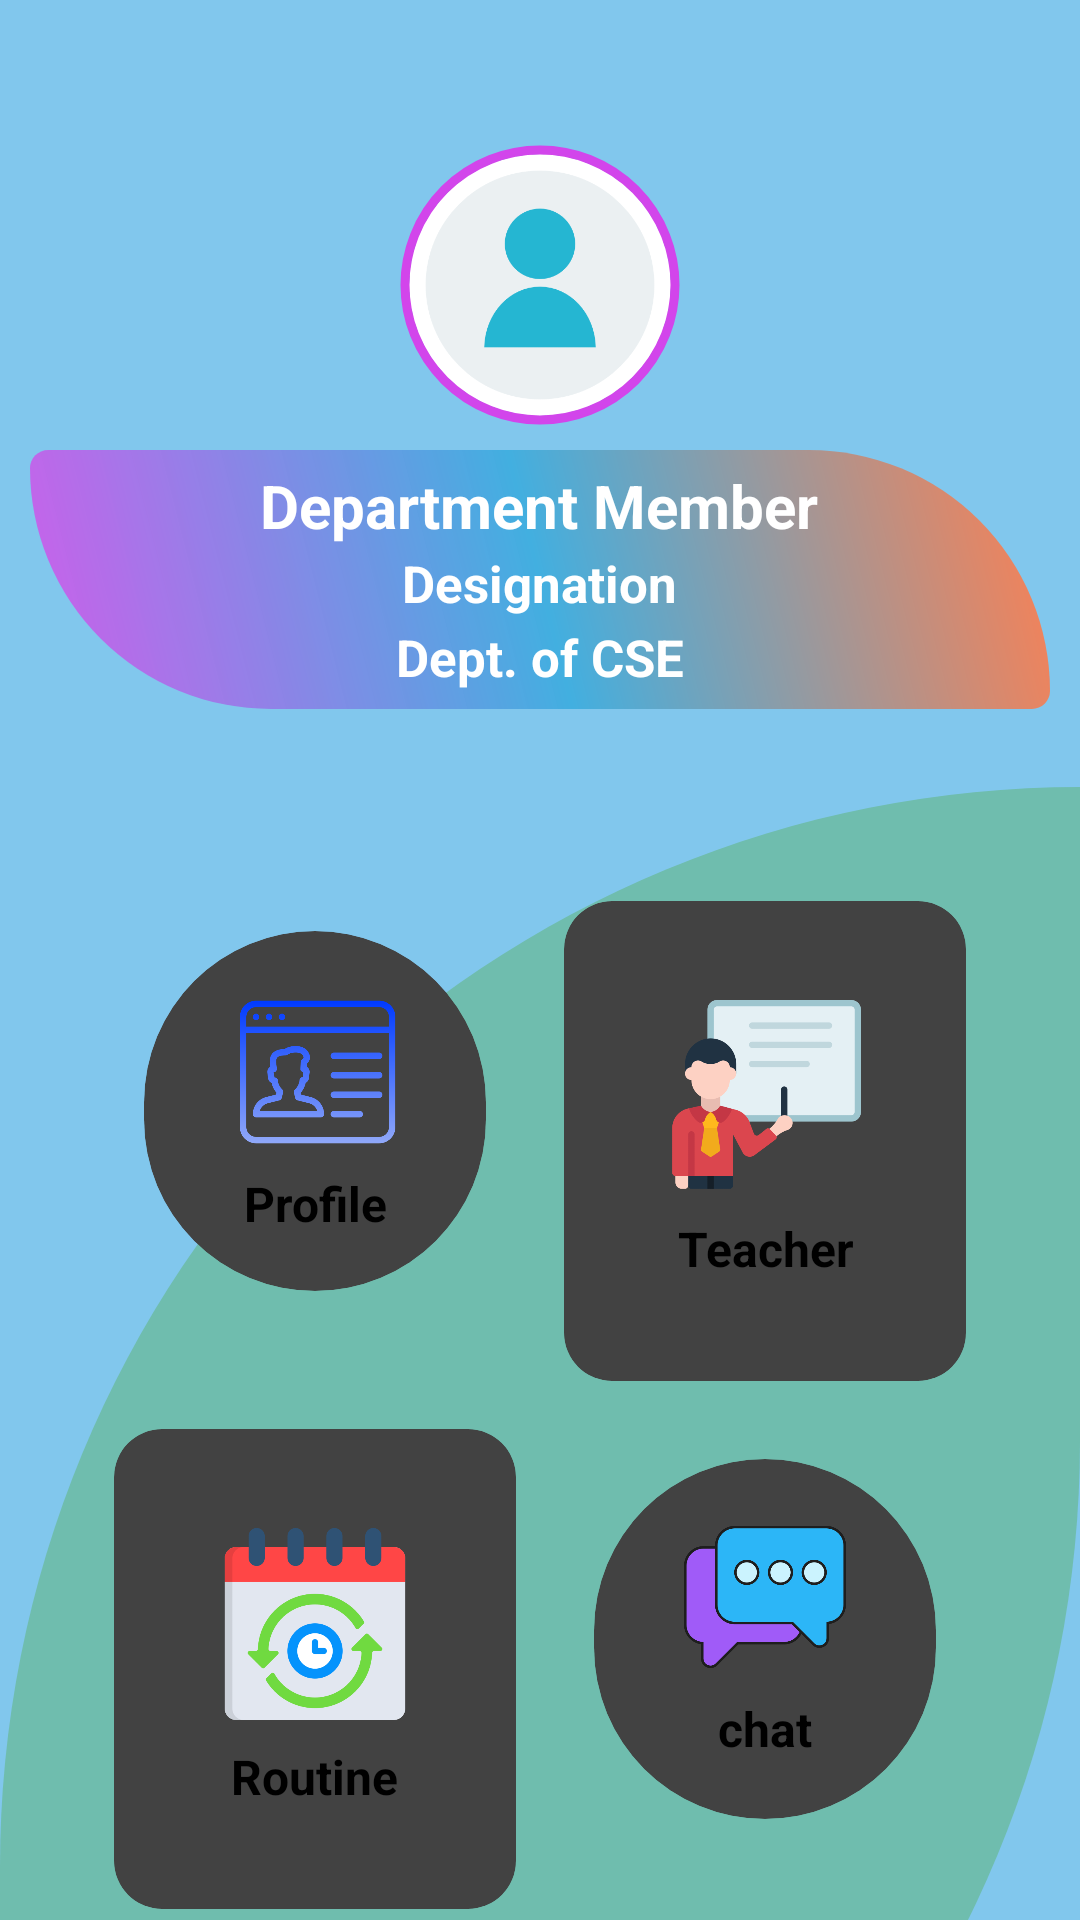

Where icons sit on this 1080×1920 app screen, as (x1, y1, x2, y2):
demo profile: (400, 145, 680, 425)
